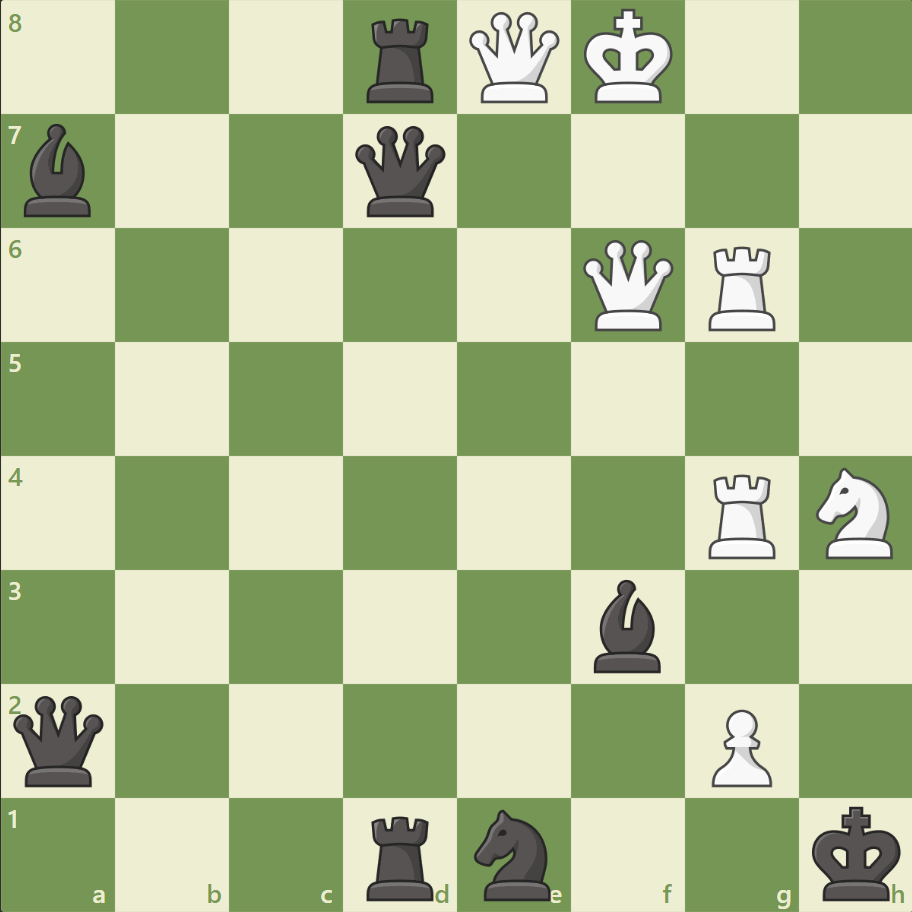K: (579, 4, 679, 112)
N: (806, 461, 903, 564)
P: (701, 700, 776, 791)
Q: (464, 9, 563, 108), (578, 236, 677, 335)
R: (700, 239, 783, 336), (700, 466, 783, 563)
b: (17, 120, 101, 222), (585, 574, 669, 676)
k: (806, 798, 906, 906)
n: (465, 802, 562, 904)
q: (351, 122, 450, 222), (10, 690, 109, 789)
r: (360, 806, 442, 904), (360, 12, 442, 109)
